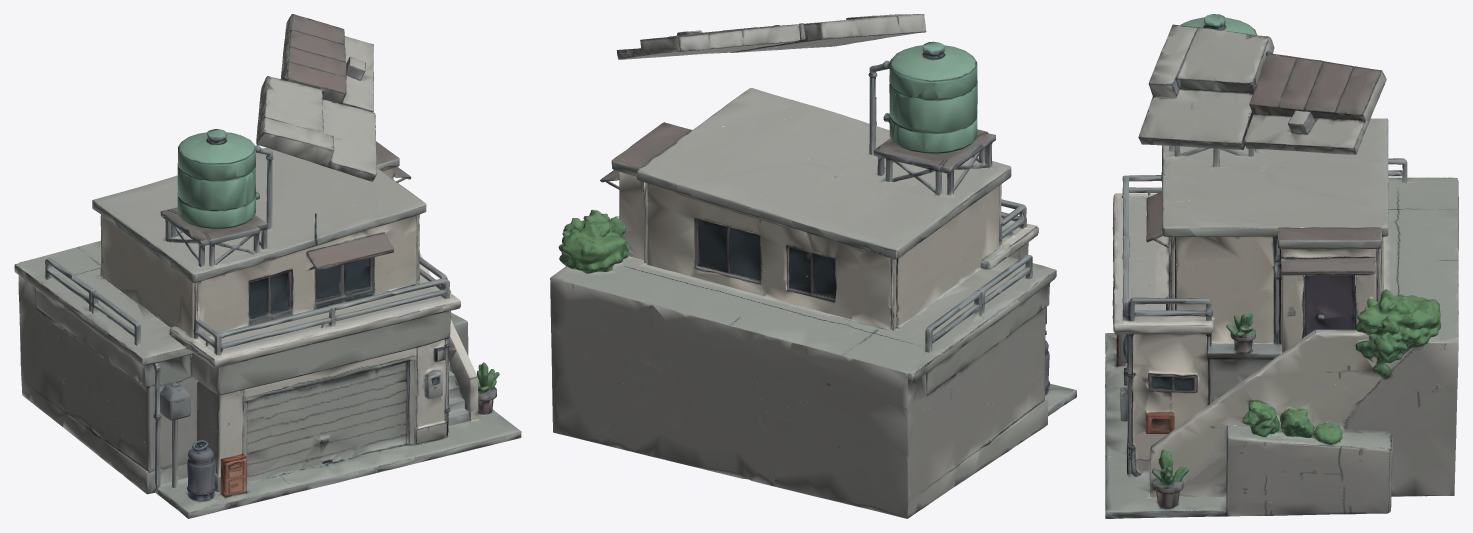
The model's file is building11.glb.
3 views of the same model, side by side, from view 1: azimuth 30°, elevation 25°; view 2: azimuth 150°, elevation 25°; view 3: azimuth 270°, elevation 25° (orthographic). The views are drawn at different scales.
Visible parts, largest first — view 1: tripo_node_f6dda5ee-1e1c-431d-a8e3-0de5a786beb5; view 2: tripo_node_f6dda5ee-1e1c-431d-a8e3-0de5a786beb5; view 3: tripo_node_f6dda5ee-1e1c-431d-a8e3-0de5a786beb5.
Boxes of the visible parts, x1,y1,x2,y2 form: tripo_node_f6dda5ee-1e1c-431d-a8e3-0de5a786beb5: [14, 14, 521, 518]; tripo_node_f6dda5ee-1e1c-431d-a8e3-0de5a786beb5: [550, 14, 1076, 518]; tripo_node_f6dda5ee-1e1c-431d-a8e3-0de5a786beb5: [1105, 14, 1458, 518].
Bounding box in the file's own units: 1 × 0.9655 × 0.7873.
Materials: 1 (1 with a texture image).
